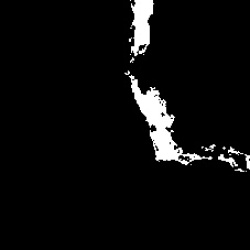crack: (124, 1, 247, 174)
